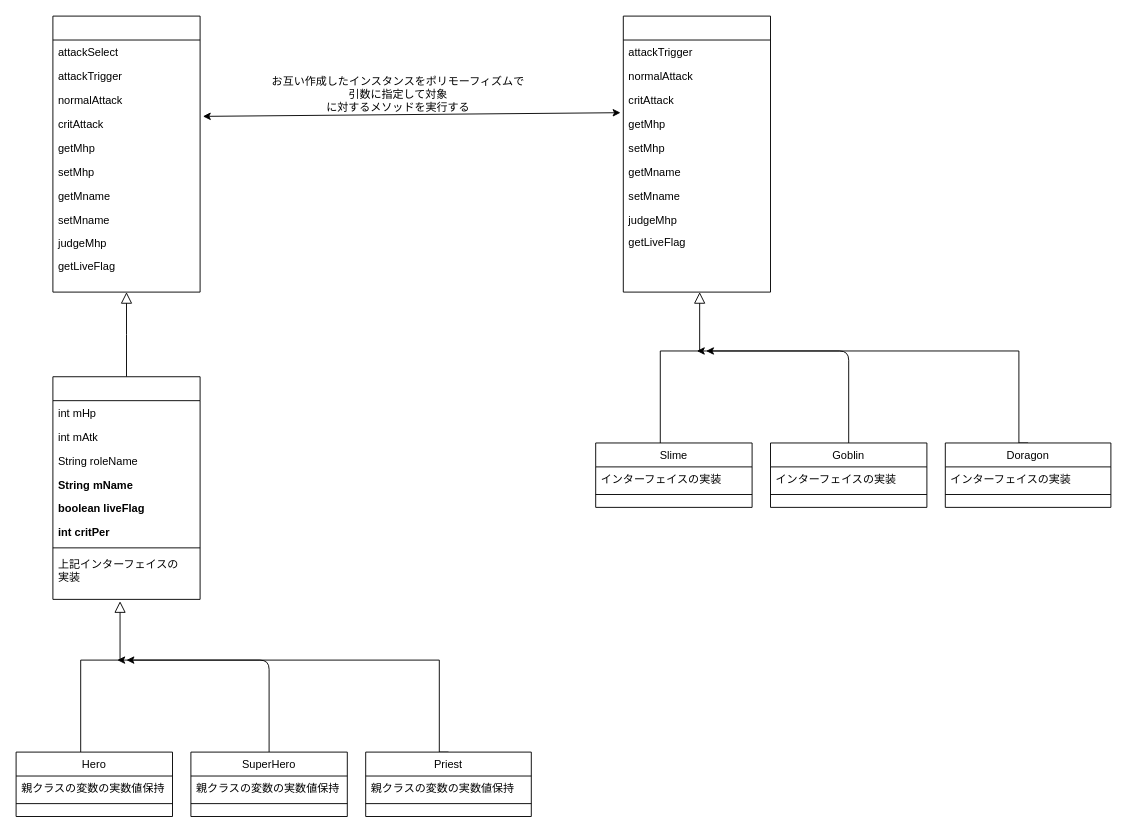
This 1127x833 diagram has some shape labels left out. The box of each missing label's shape, as (x1, y1, x2, y2) in pixels:
Human(Interface): (52, 15, 200, 292)
Monster(Interface): (622, 15, 770, 292)
SuperHuman: (52, 376, 200, 599)
